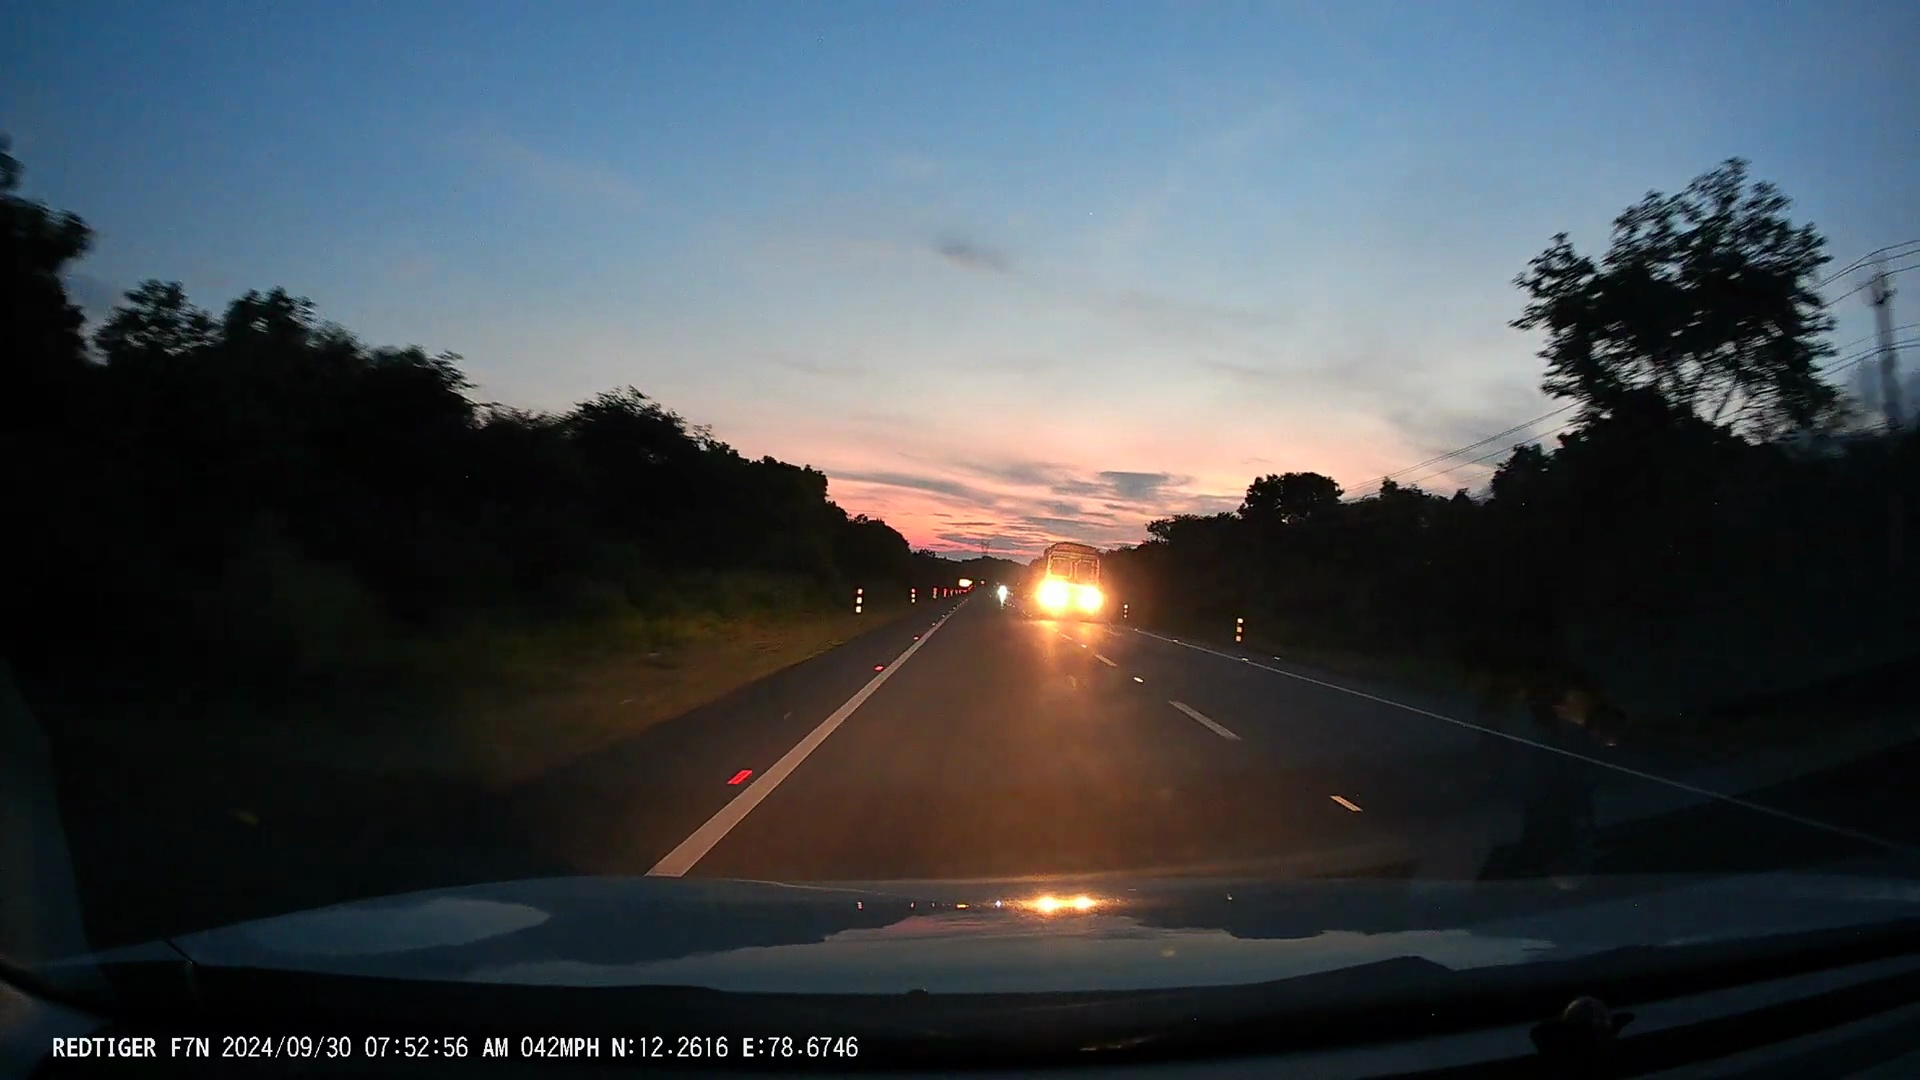four wheeler: (1021, 531, 1120, 630)
headlight: (1031, 580, 1067, 615), (1073, 584, 1106, 617), (997, 585, 1007, 603)
two wheeler: (992, 574, 1015, 613)
